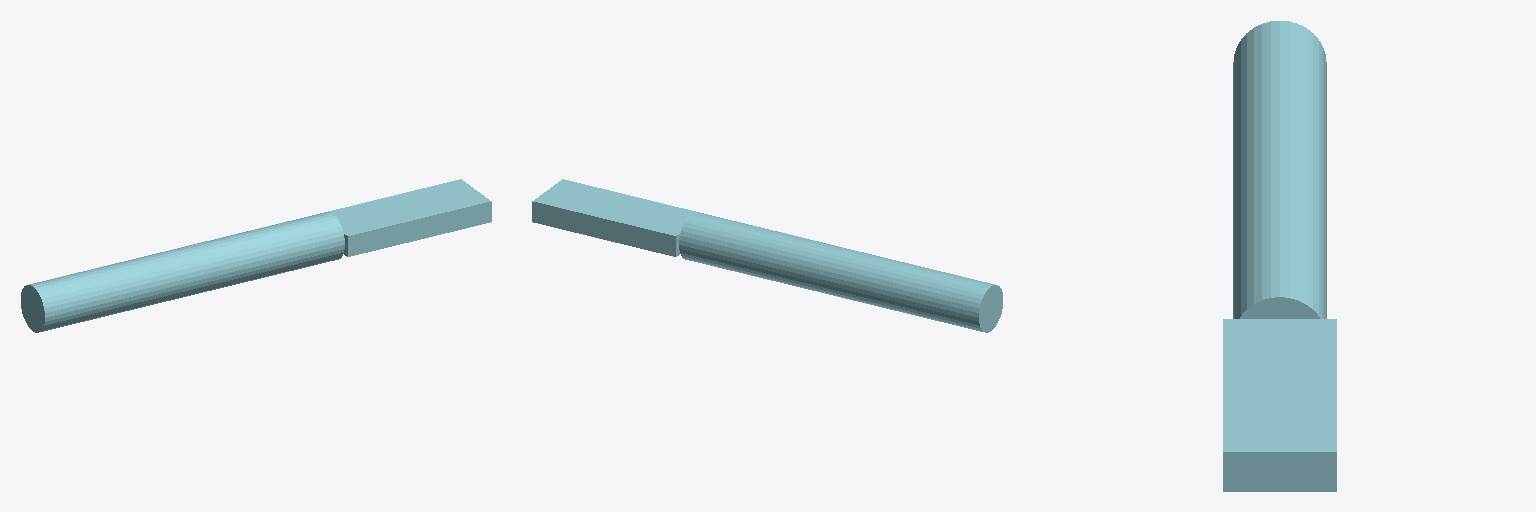
The robot description file, URDF, robot "cylinder_spatula_v6014":
<?xml version="1.0"?>
<robot name="cylinder_spatula_v6014">

  <link name="cylinder_spatula_v6014">
    <!-- Handle -->
    <visual>
      <origin xyz="0 0 0" rpy="0 1.5707963267948966 0"/>
      <geometry>
        <cylinder length="0.18225830906174317" radius="0.012962134090014678"/>
      </geometry>
      <material name="material">
        <color rgba="0.639 0.847 0.882 1.0"/>
      </material>
    </visual>
    <collision>
      <origin xyz="0 0 0" rpy="0 1.5707963267948966 0"/>
      <geometry>
        <cylinder length="0.18225830906174317" radius="0.012962134090014678"/>
      </geometry>
    </collision>

    <!-- Head -->
    <visual>
      <origin xyz="0.1347642715962083 0 0" rpy="0 0 0"/>
      <geometry>
        <box size="0.08727023413067342 0.031947938892554054 0.01218564582229116"/>
      </geometry>
      <material name="material">
        <color rgba="0.639 0.847 0.882 1.0"/>
      </material>
    </visual>
    <collision>
      <origin xyz="0.1347642715962083 0 0" rpy="0 0 0"/>
      <geometry>
        <box size="0.08727023413067342 0.031947938892554054 0.01218564582229116"/>
      </geometry>
    </collision>

    <inertial>
      <density value="400.0"/>
    </inertial>
  </link>

</robot>

--- Render facts (derived) ---
Views: 3 orthographic renders of the robot side by side, from view 1: azimuth 30°, elevation 25°; view 2: azimuth 150°, elevation 25°; view 3: azimuth 270°, elevation 25°.
Robot: cylinder_spatula_v6014 — 1 links, 0 joints (none); root link cylinder_spatula_v6014; default pose: all joints at 0.
Visible links, largest first — view 1: cylinder_spatula_v6014; view 2: cylinder_spatula_v6014; view 3: cylinder_spatula_v6014.
Boxes of the visible links, box(x1,y1,x2,y2) form: cylinder_spatula_v6014: box(21, 179, 491, 332); cylinder_spatula_v6014: box(532, 179, 1002, 332); cylinder_spatula_v6014: box(1223, 21, 1336, 491).
Size in the robot's own frame: 0.2695 by 0.0319 by 0.0259 metres.
Geometry: primitives only (box / cylinder / sphere), no mesh files.
